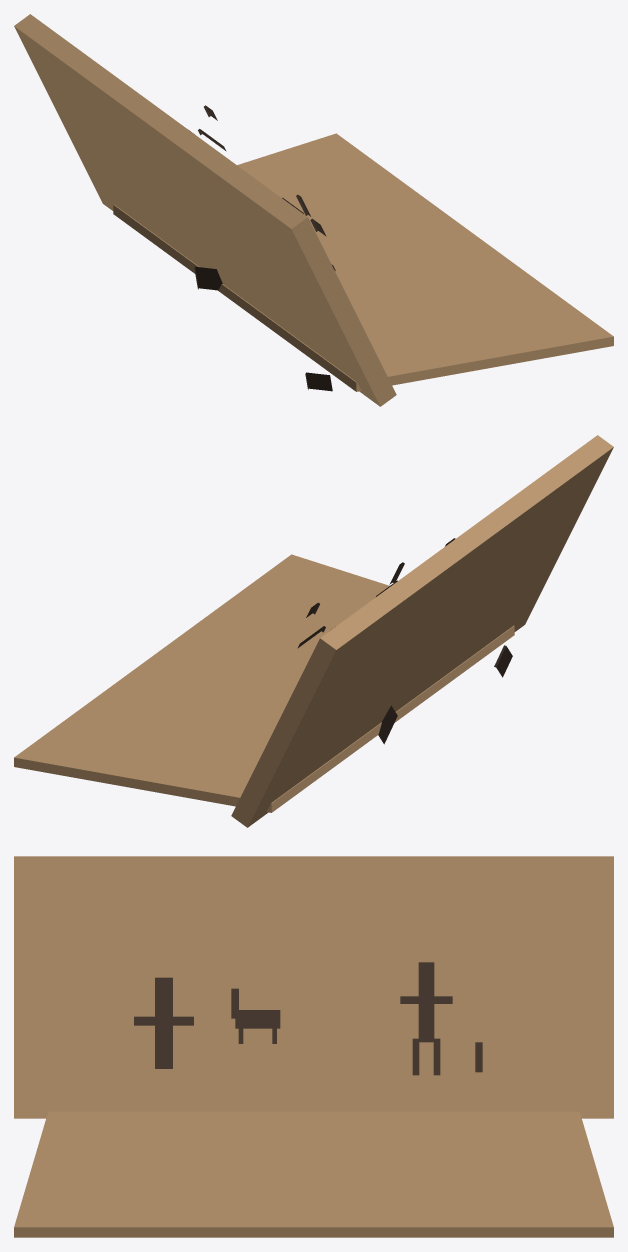
The model's file is geoglifo_ladera.obj.
3 renders of one model, top to bottom at view 1: azimuth 30°, elevation 25°; view 2: azimuth 150°, elevation 25°; view 3: azimuth 270°, elevation 25°, orthographic. The views are drawn at different scales.
Parts seen in each view (by area): view 1: geoglifo_ladera; view 2: geoglifo_ladera; view 3: geoglifo_ladera.
Boxes of the visible parts, x1,y1,x2,y2 form: geoglifo_ladera: (14, 14, 613, 406); geoglifo_ladera: (14, 435, 613, 827); geoglifo_ladera: (14, 856, 613, 1237).
Bounding box in the file's own units: 21.46 × 13.97 × 32.
